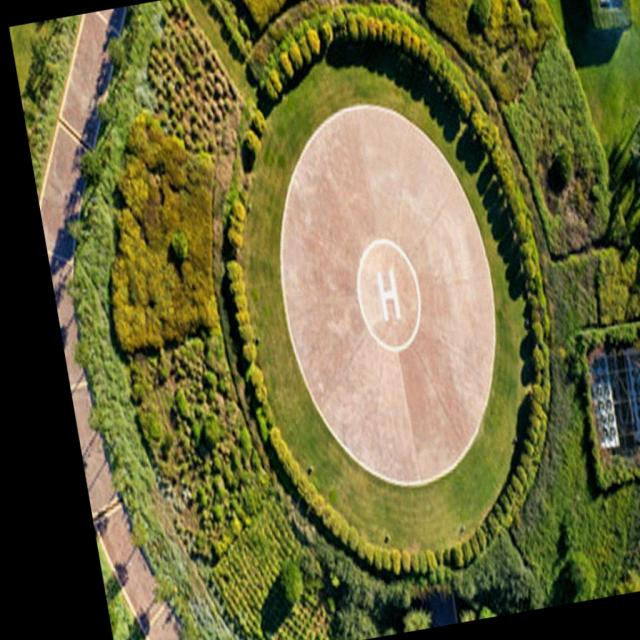helipad: (352, 234, 424, 353)
